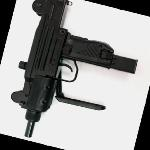Senapan: (3, 0, 144, 146)
